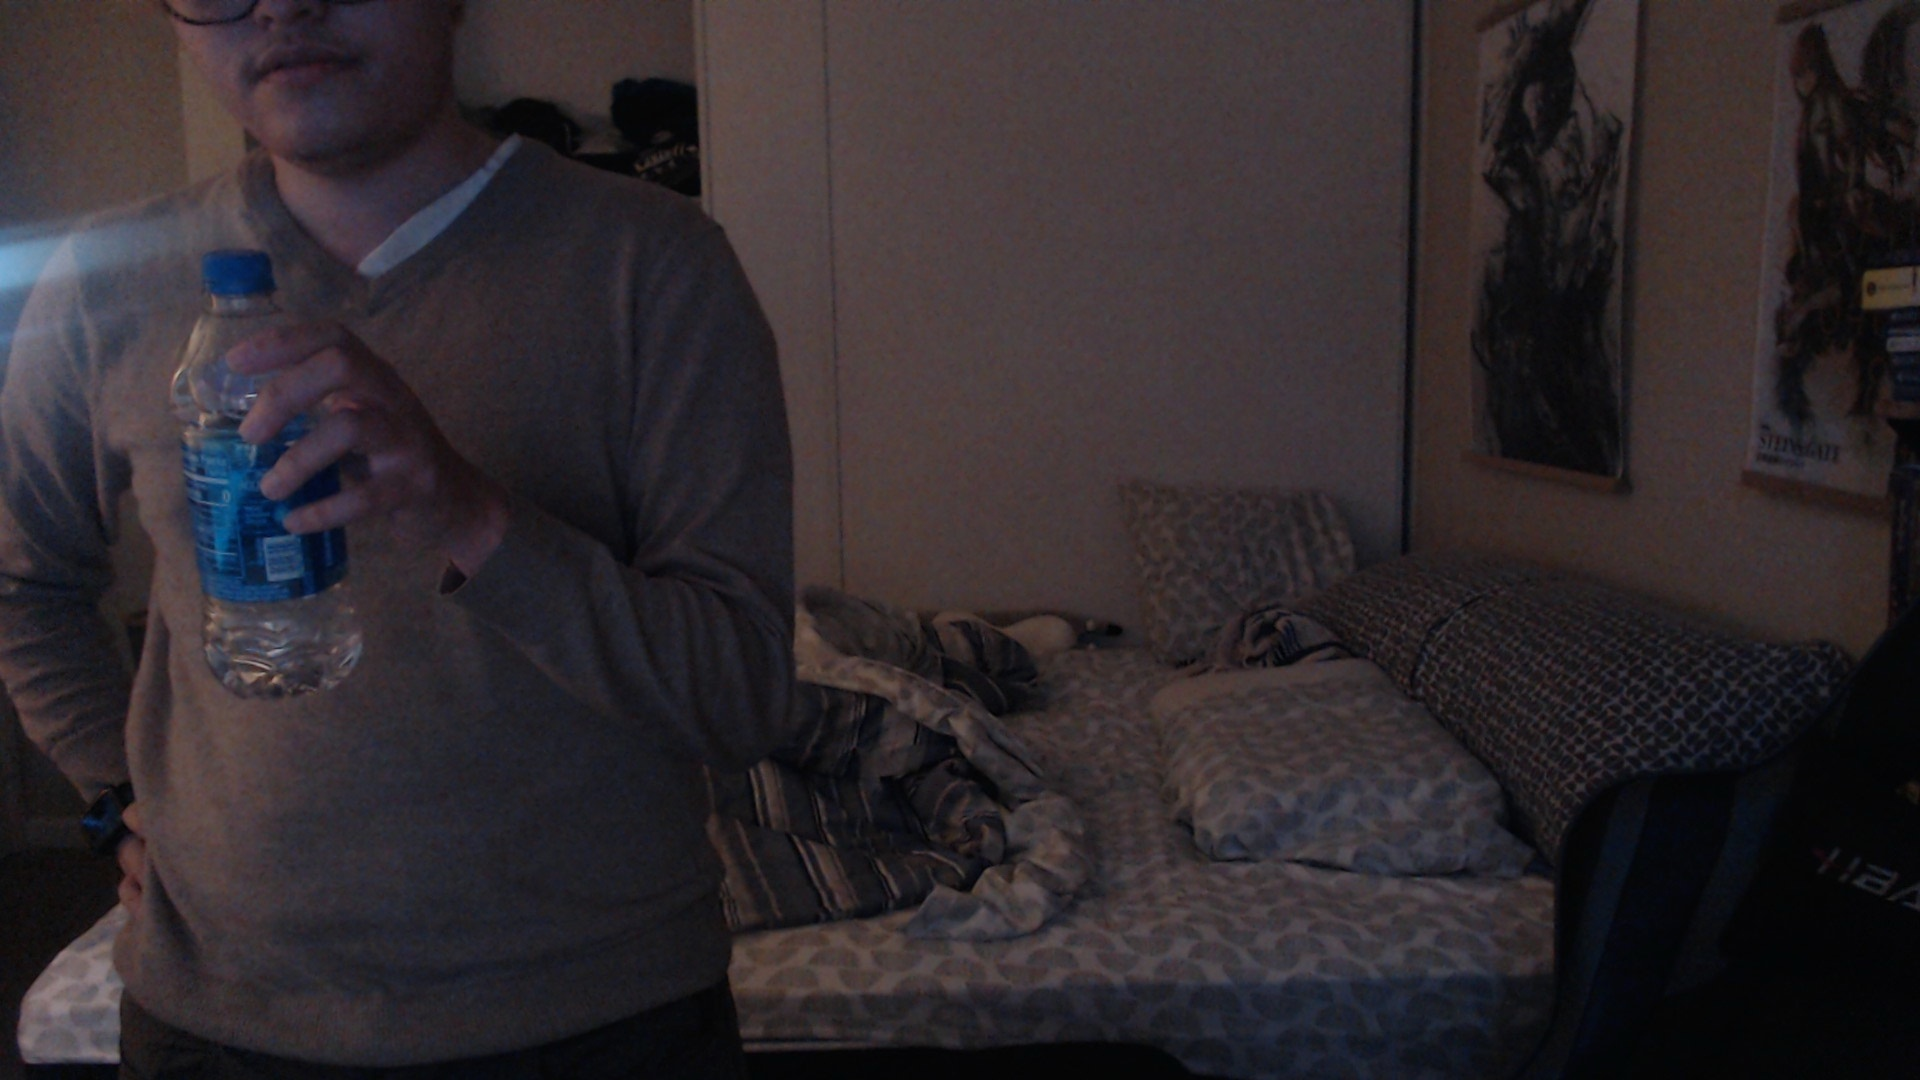bottle: (164, 248, 364, 702)
